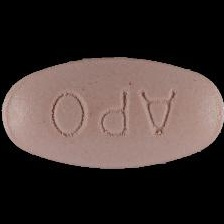58118-1248: (0, 0, 224, 224)
